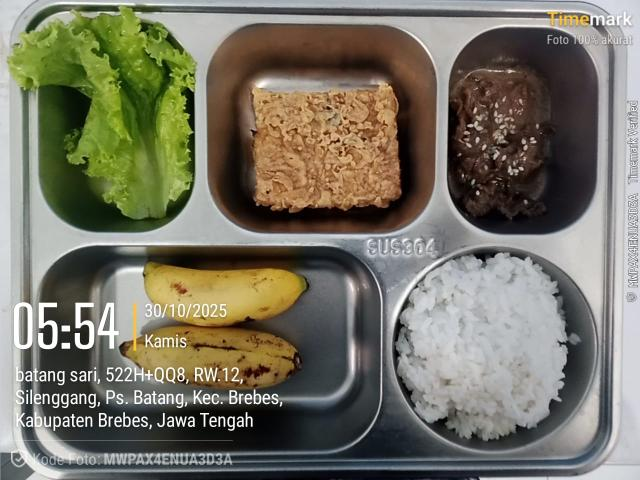ayam: (449, 66, 548, 218)
buah: (121, 262, 307, 388)
nasi: (396, 253, 566, 440)
sayur: (8, 6, 195, 219)
tempe: (253, 84, 401, 212)
